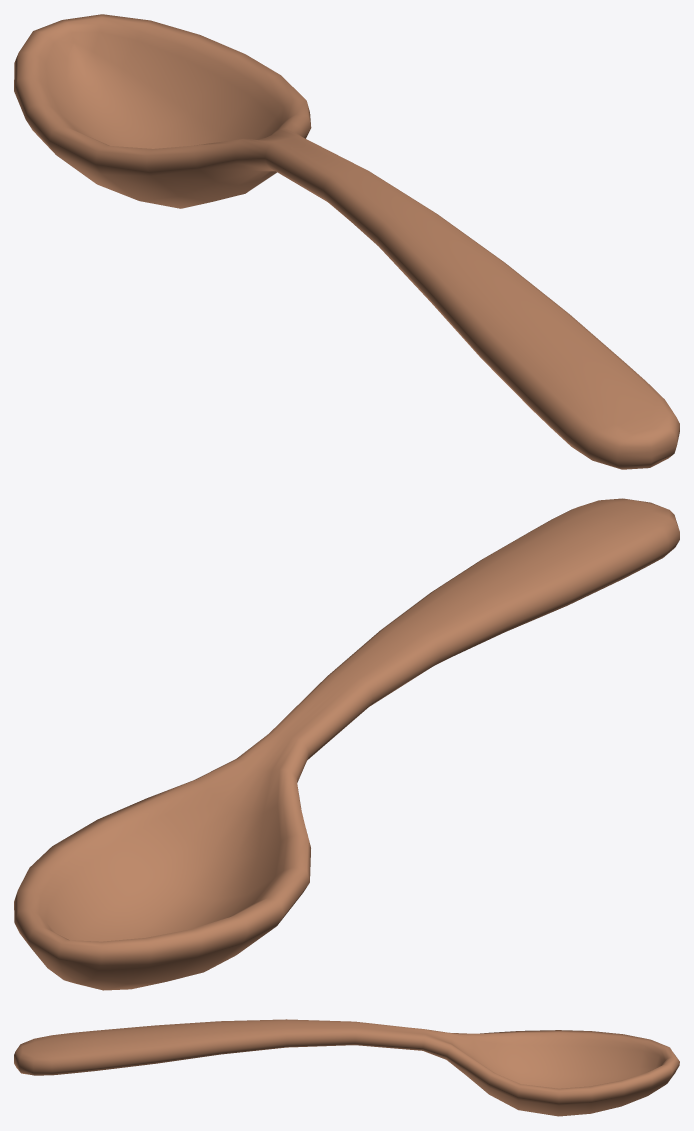
The model's file is Mixing Spoon.glb.
3 views of the same model, one above another, from view 1: azimuth 30°, elevation 25°; view 2: azimuth 150°, elevation 25°; view 3: azimuth 270°, elevation 25° (orthographic). The views are drawn at different scales.
Parts seen in each view (by area): view 1: Mixing Spoon; view 2: Mixing Spoon; view 3: Mixing Spoon.
Boxes of the visible parts, x1,y1,x2,y2 form: Mixing Spoon: (14,14,679,469); Mixing Spoon: (14,498,679,990); Mixing Spoon: (14,1019,679,1116).
Size of the model in its own units: 0.2825 by 0.1721 by 1.23.
